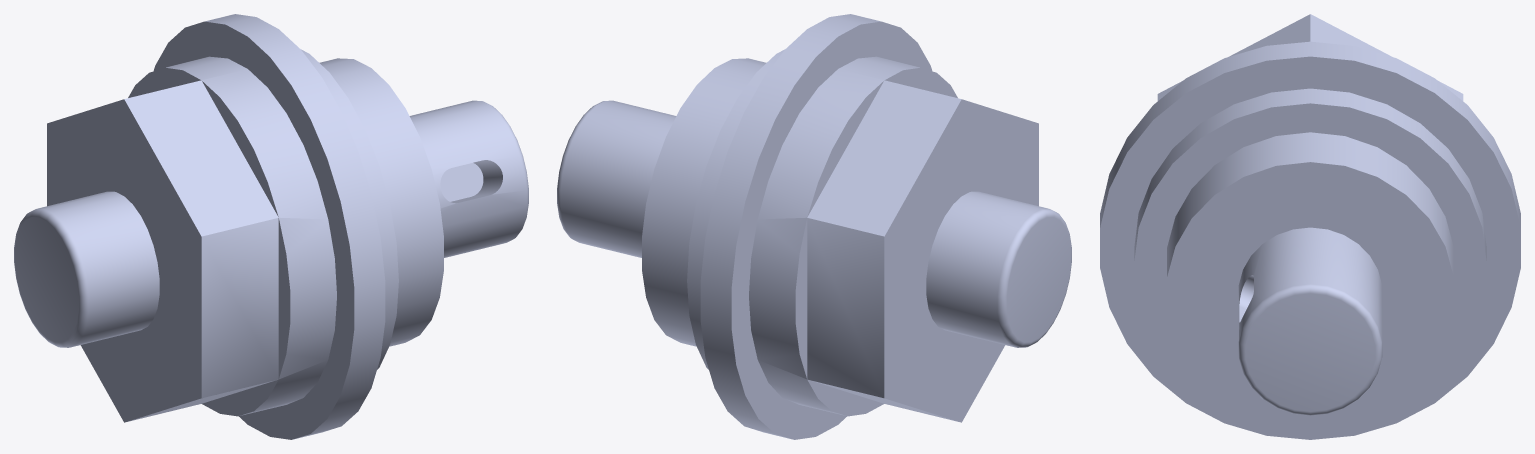
The model's file is complete.fbx.
3 views of the same model, side by side, from view 1: azimuth 30°, elevation 25°; view 2: azimuth 150°, elevation 25°; view 3: azimuth 270°, elevation 25° (orthographic).
Visible parts, largest first — view 1: jietizhou; view 2: jietizhou; view 3: jietizhou.
Part boxes in pixels (<box>): jietizhou: <box>14,14,528,439</box>; jietizhou: <box>557,14,1071,439</box>; jietizhou: <box>1100,14,1520,439</box>.
Bounding box in the file's own units: 14.5 × 12 × 11.93.
